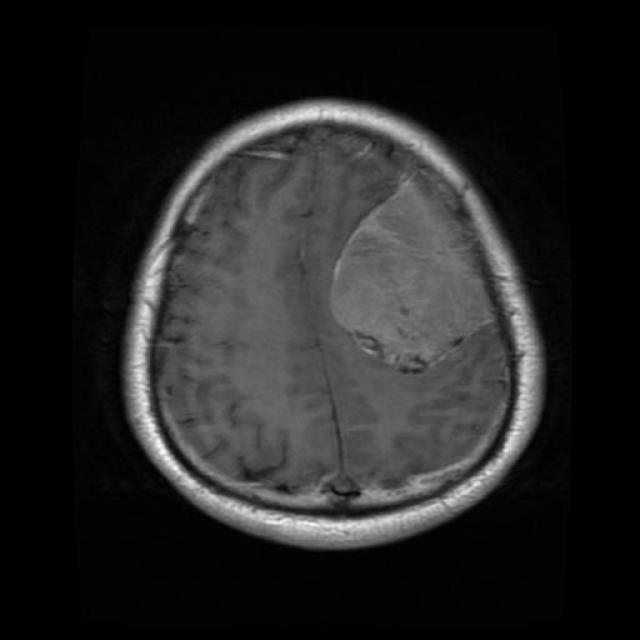Brain-Tumor: (318, 155, 526, 382)
